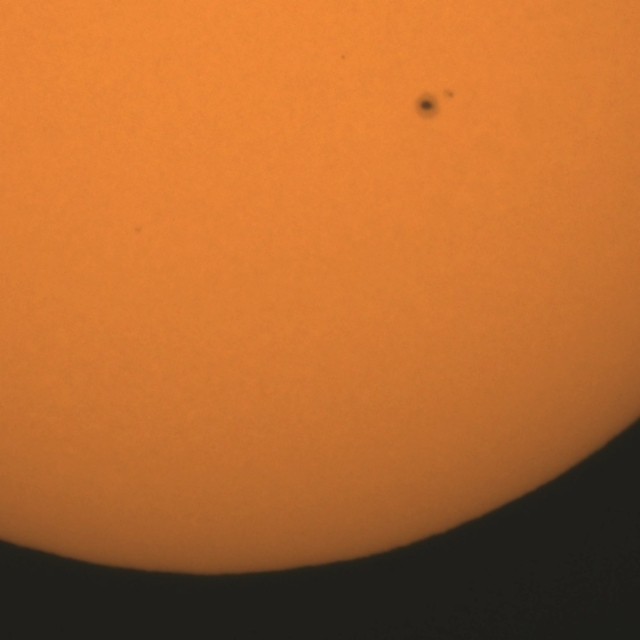sunspot: (401, 86, 458, 127), (132, 224, 143, 235), (339, 53, 346, 61)
